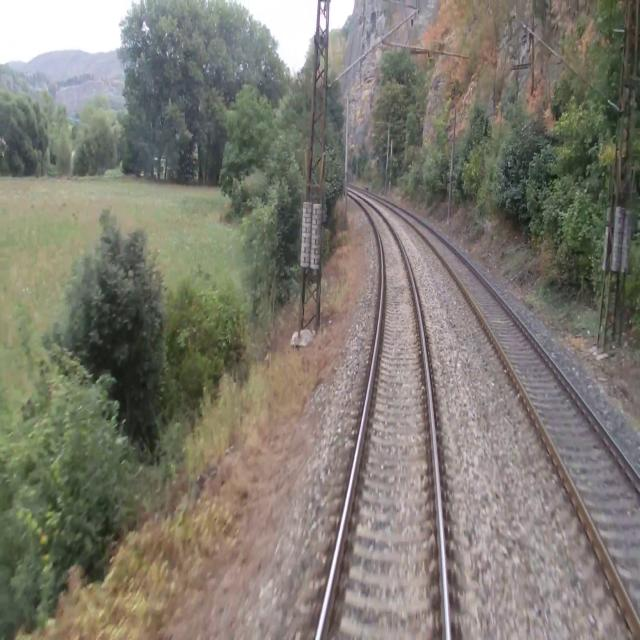rail-track: (348, 185, 640, 616), (319, 189, 445, 639)
